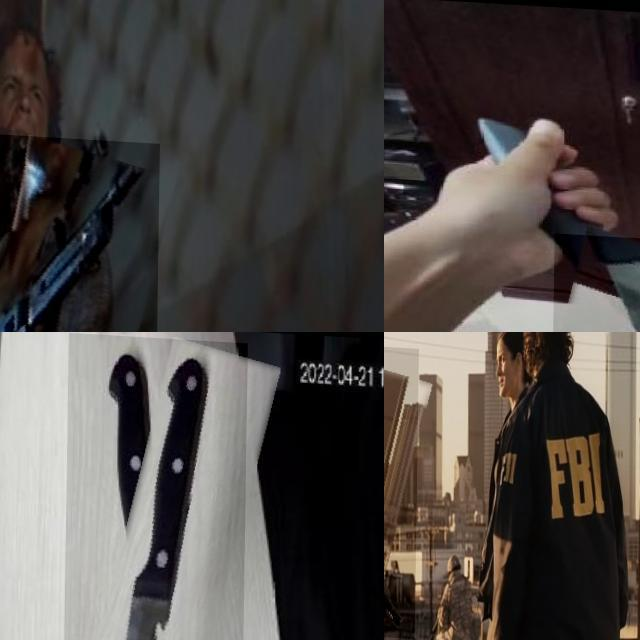-: (61, 332, 247, 640)
gun-knife-thesis - v11 Yolov5 augmented: (384, 334, 495, 634), (0, 128, 160, 332)
